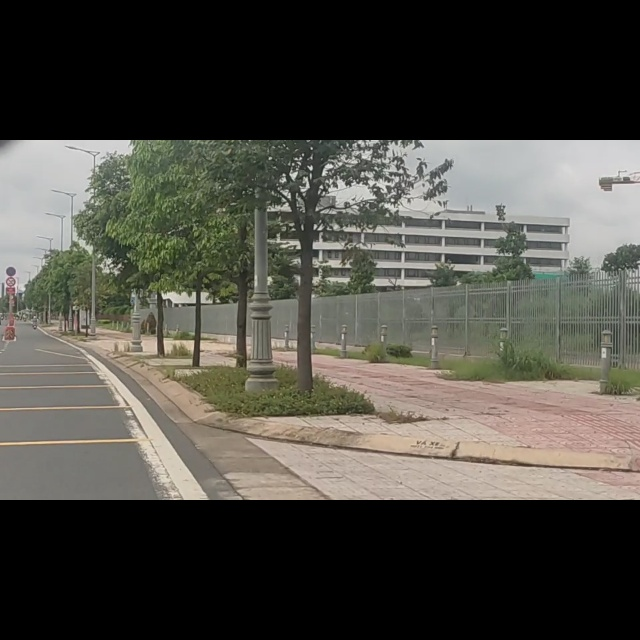bien_cam: (5, 224, 17, 243), (5, 245, 16, 262)
